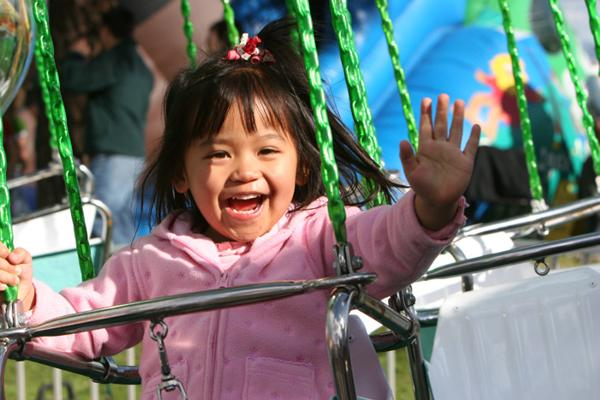person: (1, 62, 481, 400)
